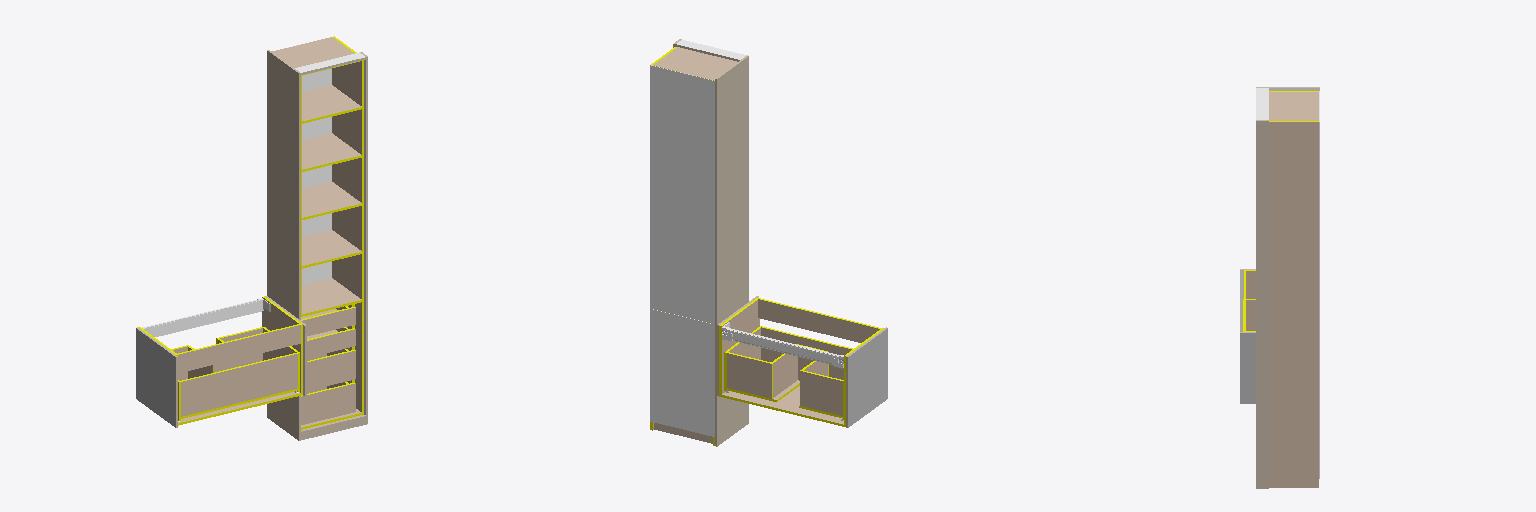
3 views of the same model, side by side, from view 1: azimuth 30°, elevation 25°; view 2: azimuth 150°, elevation 25°; view 3: azimuth 270°, elevation 25° (orthographic).
Size of the model in its own units: 1445 by 2530 by 501.
Materials: 15 (2 with a texture image).